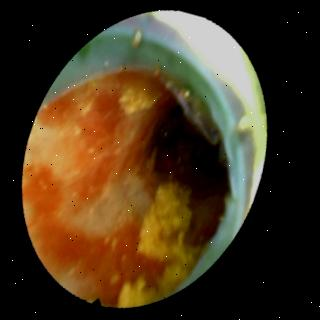stone: (120, 181, 202, 303), (177, 133, 204, 160), (161, 113, 183, 140)
tissue: (28, 71, 225, 300)
